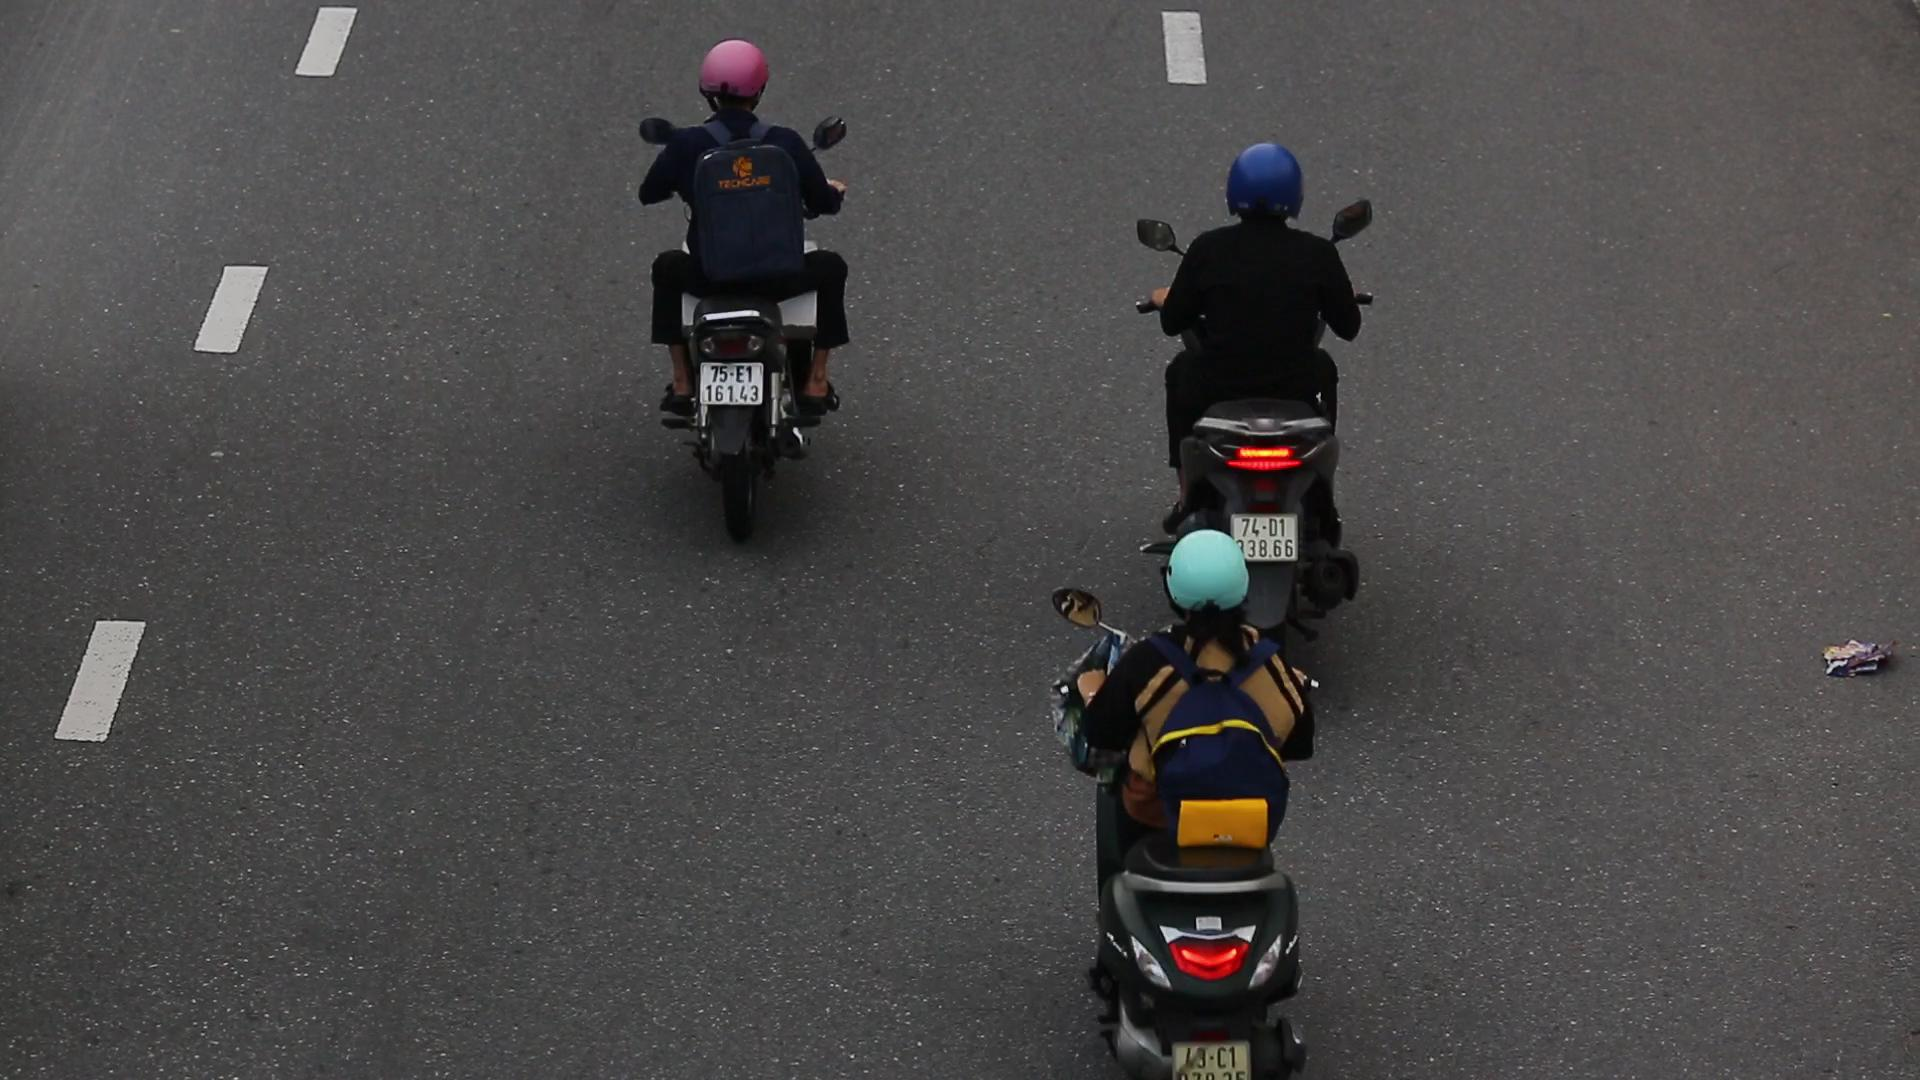motobike: (1044, 522, 1338, 1080), (615, 37, 870, 555), (1135, 137, 1386, 666)
